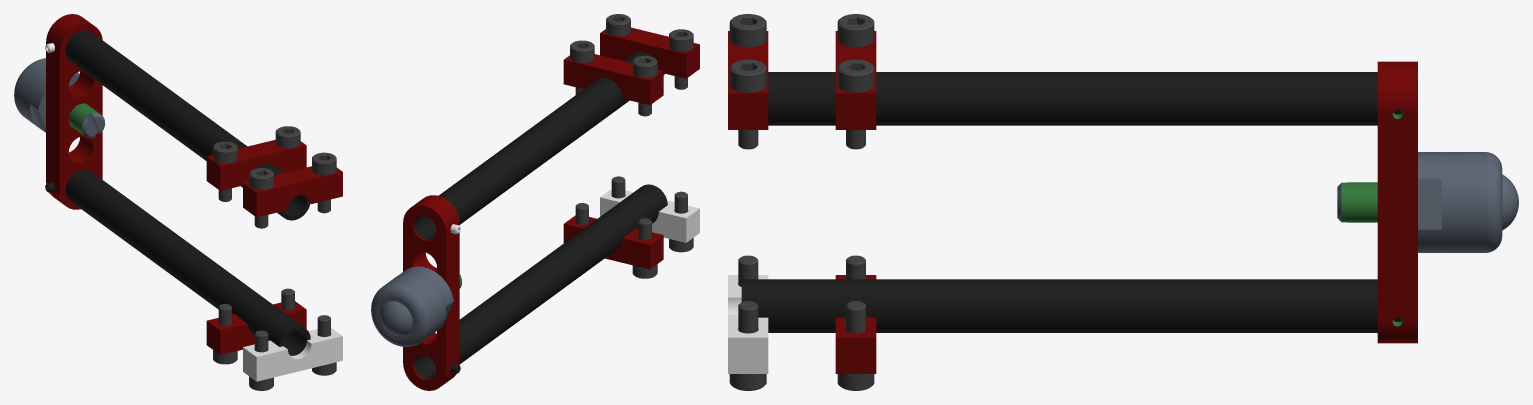
Rendered from short_legs.dae.
The picture shows the model from 3 angles, left to right: view 1: azimuth 30°, elevation 25°; view 2: azimuth 150°, elevation 25°; view 3: azimuth 270°, elevation 25°; orthographic projection. The views are drawn at different scales.
Visible parts, largest first — view 1: Body_1 (×14), _3DGeom_21, _3DGeom_127, _3DGeom_128; view 2: Body_1 (×14), _3DGeom_21, _3DGeom_127; view 3: Body_1 (×12), _3DGeom_21, _3DGeom_127, _3DGeom_128.
Part boxes in pixels (box(x1,y1,x2,y2)): Body_1 (×14): box(65, 30, 342, 390); _3DGeom_21: box(46, 14, 102, 209); _3DGeom_127: box(14, 58, 104, 138); _3DGeom_128: box(68, 103, 100, 135); Body_1 (×14): box(414, 14, 699, 379); _3DGeom_21: box(403, 195, 459, 390); _3DGeom_127: box(371, 266, 453, 346); Body_1 (×12): box(728, 14, 1402, 390); _3DGeom_21: box(1377, 61, 1417, 343); _3DGeom_127: box(1337, 152, 1518, 252); _3DGeom_128: box(1341, 182, 1377, 222).
Bounding box in the file's own units: 0.022 × 0.1175 × 0.052.
